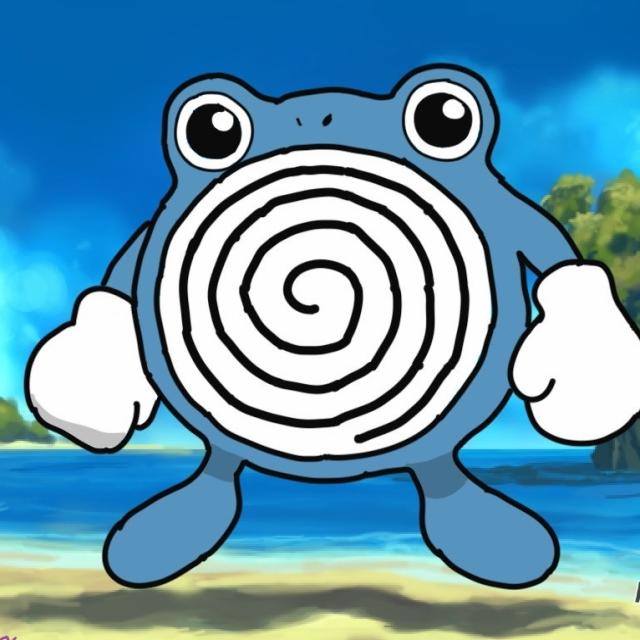Poliwhirl: (109, 60, 581, 584)
